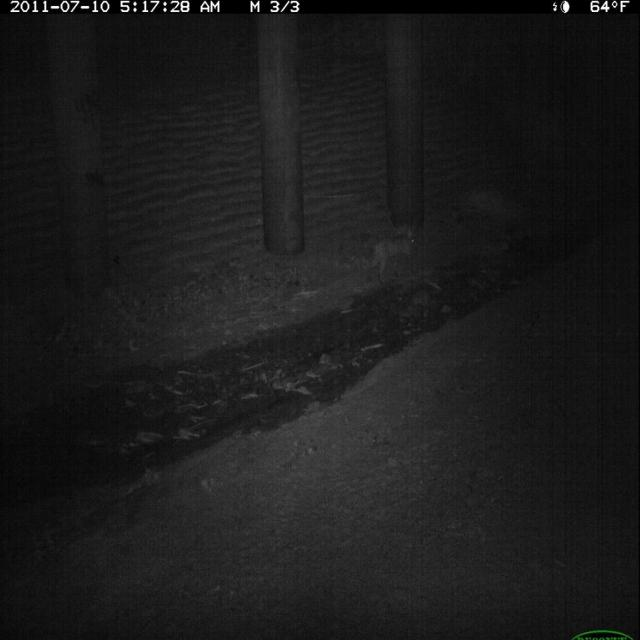bobcat: (362, 221, 422, 291)
